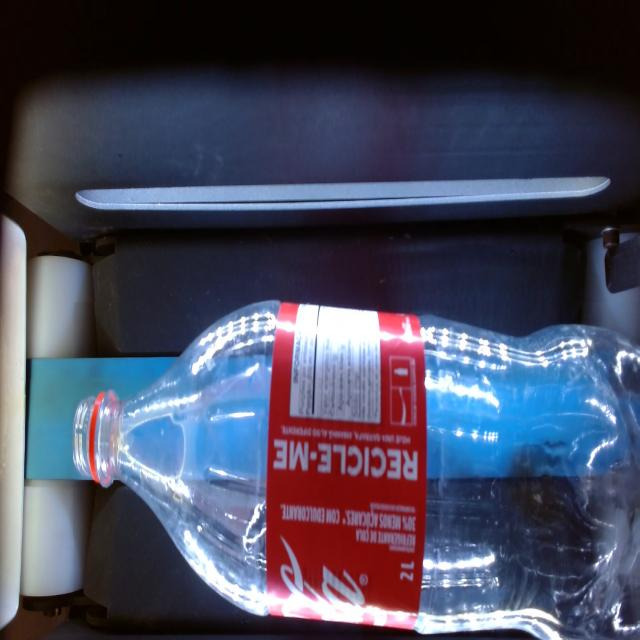bottle: (74, 302, 639, 638)
